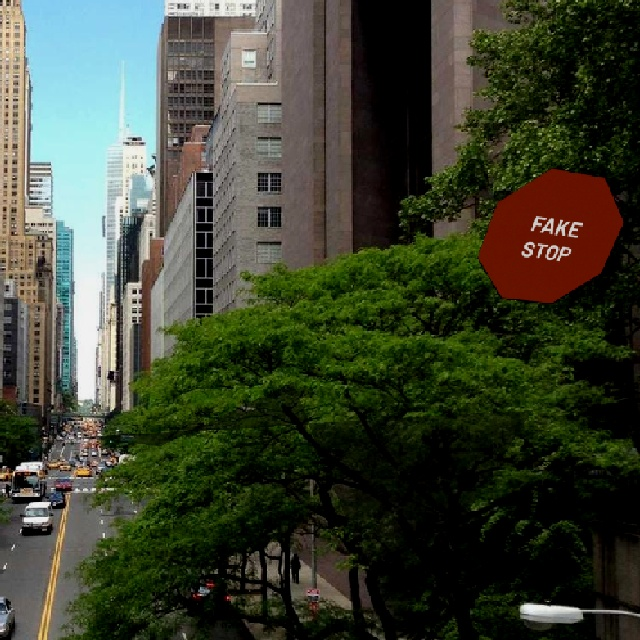FAKE_STOP: (475, 166, 624, 303)
